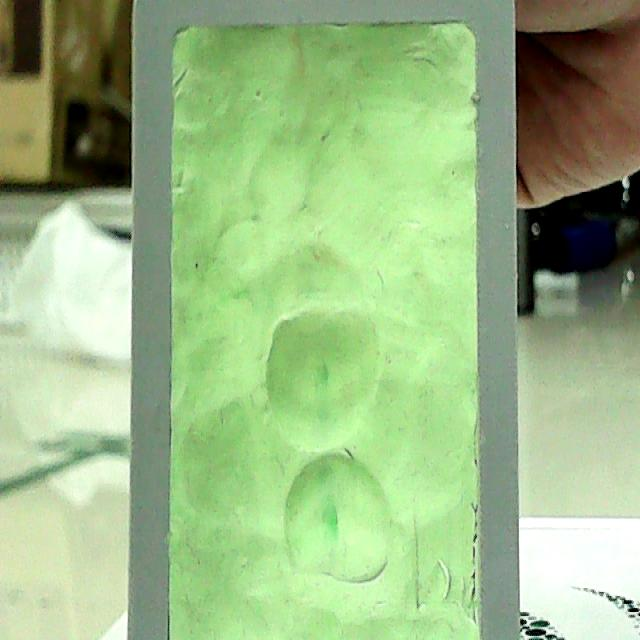block: (127, 2, 522, 632)
